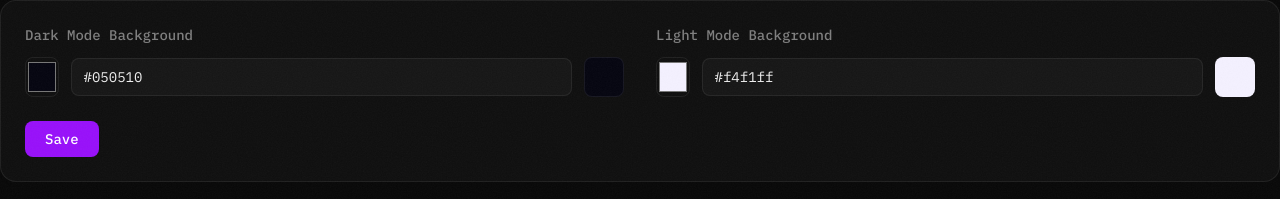
Scenario: SettingsAdminClient › successful save shows "✓ Saved" message
Click the button "Save".
click(62, 139)  # box [25, 121, 99, 157]
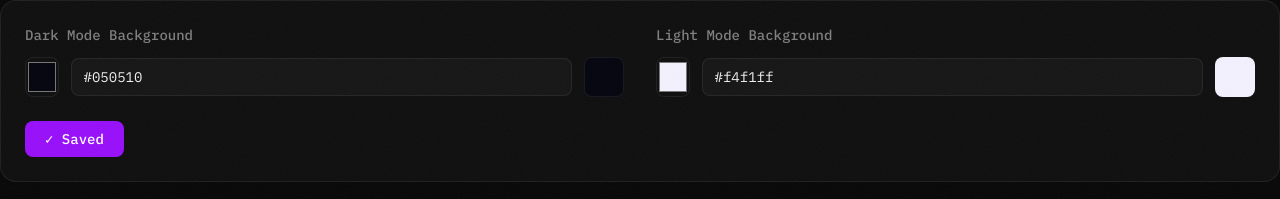
Now the button "✓ Saved" is shown, box [25, 121, 124, 157]
